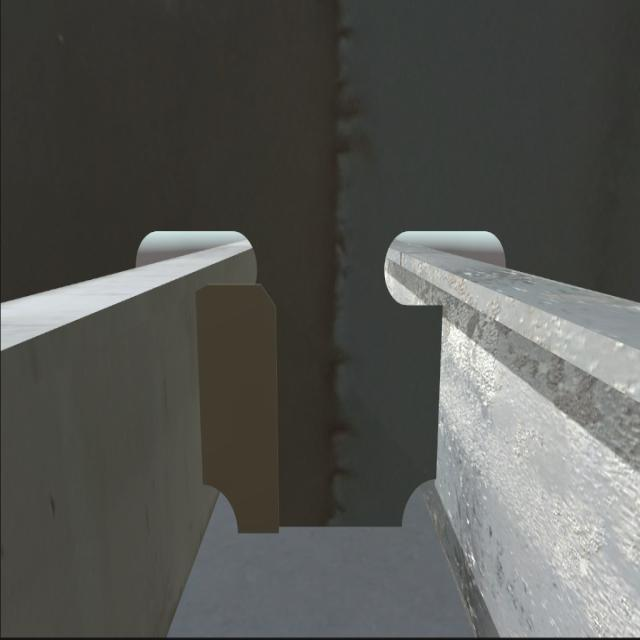fillet_hole: (401, 479, 441, 530), (205, 481, 238, 538)
fillet_yong_jeop_jang: (235, 513, 407, 539)
longi_yong_jeop_jang: (427, 306, 448, 477), (189, 289, 207, 481)
plate_CP03: (200, 287, 280, 538)
